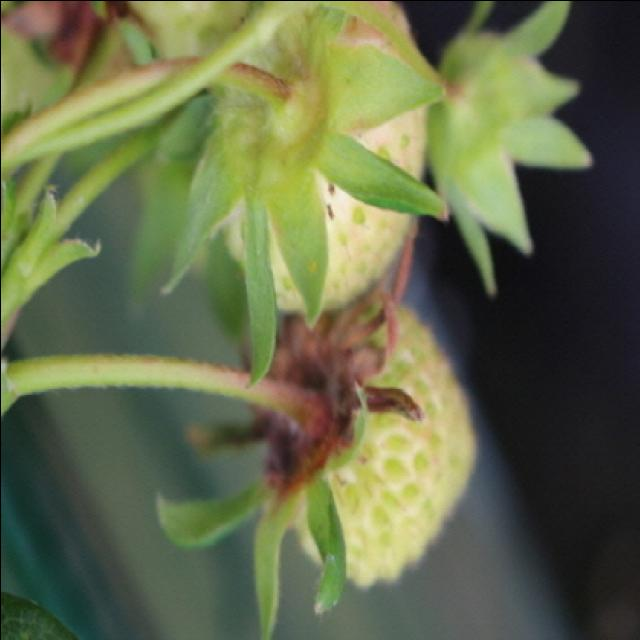Gray Mold: (243, 233, 423, 510)
